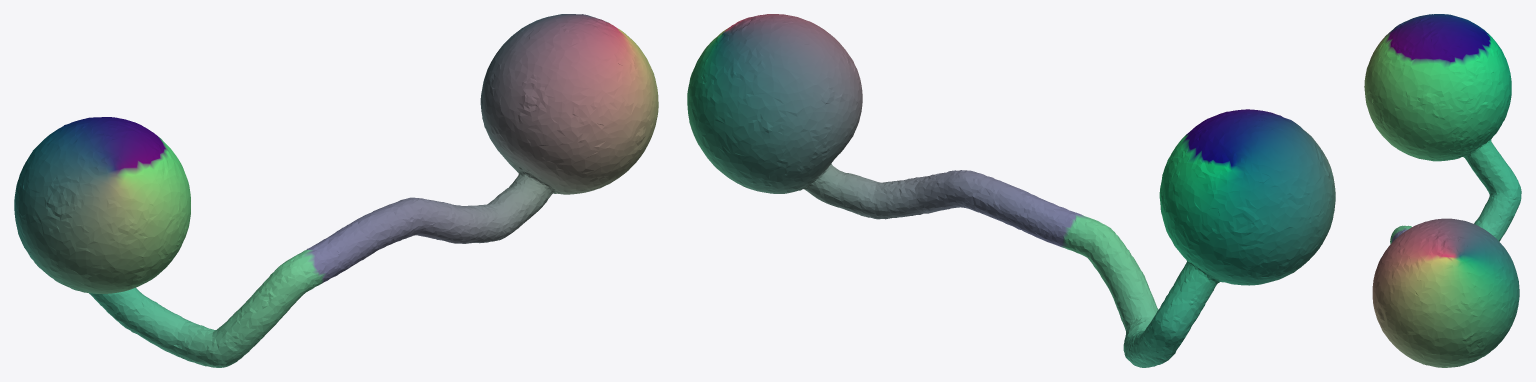
Rendered from twoballs-1.off.obj.
The picture shows the model from 3 angles, left to right: view 1: azimuth 30°, elevation 25°; view 2: azimuth 150°, elevation 25°; view 3: azimuth 270°, elevation 25°; orthographic projection. The views are drawn at different scales.
Size of the model in its own units: 1.75 by 0.7082 by 0.4582.
